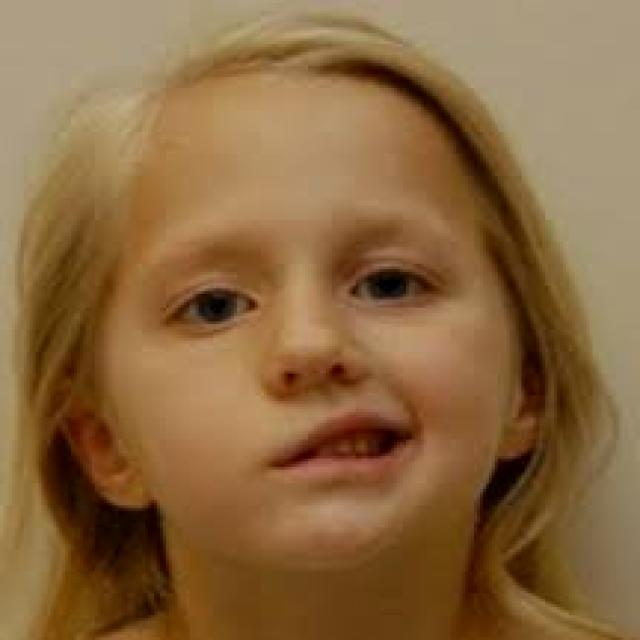stroke_face: (36, 79, 493, 556)
